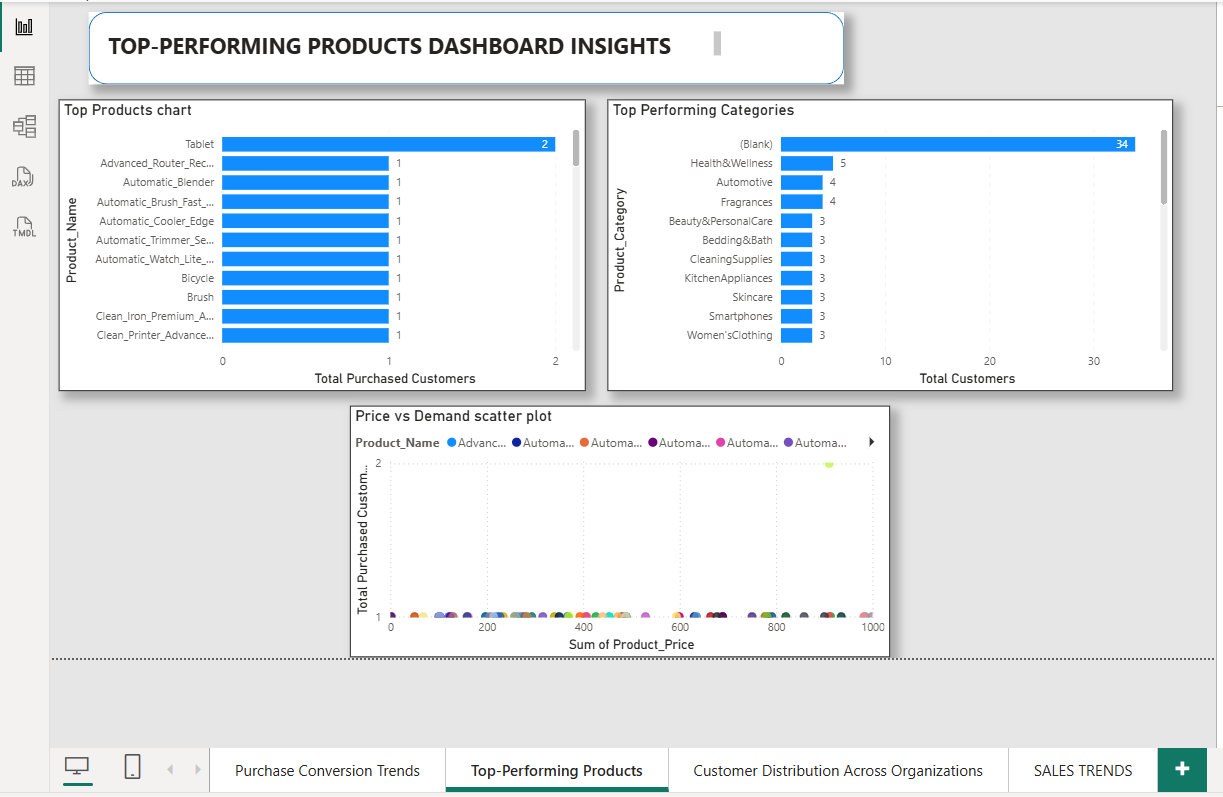

Layout of this report page (visuals, bound fields, positions):
{"tool":"powerbi","page":{"name":"Top-Performing Products","canvas":[1280,720],"ordinal":1},"visuals":[{"type":"clusteredBarChart","title":"Top Products chart","fields":{"Category":["Customers_Data.Product_Name"],"Y":["Customers_Data.Total Purchased Customers"]},"box":[9.8,107.6,578.4,320.4],"z":0},{"type":"clusteredBarChart","title":"Top Performing Categories","fields":{"Category":["Customers_Data.Product_Category"],"Y":["Customers_Data.Total Customers"]},"box":[611.4,107.6,621.2,320.4],"z":1000},{"type":"scatterChart","title":"Price vs Demand scatter plot","fields":{"X":["Sum(Customers_Data.Product_Price)"],"Y":["Customers_Data.Total Purchased Customers"],"Series":["Customers_Data.Product_Name"]},"box":[328.9,443.9,593.1,276.4],"z":2000},{"type":"shape","box":[42.8,11,829.1,79.5],"z":3000,"group":"g1"},{"type":"textbox","box":[59.9,26.9,682.3,39.1],"z":4000,"group":"g1"},{"type":"group","id":"g1","title":"Group 1","box":[42.8,11,829.1,79.5],"z":4001}]}

Visuals, with their boxes in screenshot pixels (x1, y1, x2, y2):
"Top Products chart" clusteredBarChart: (57,95,582,386)
"Top Performing Categories" clusteredBarChart: (603,95,1168,386)
"Price vs Demand scatter plot" scatterChart: (347,400,886,651)
shape: (87,7,840,79)
textbox: (102,21,722,57)
"Group 1" group: (87,7,840,79)
